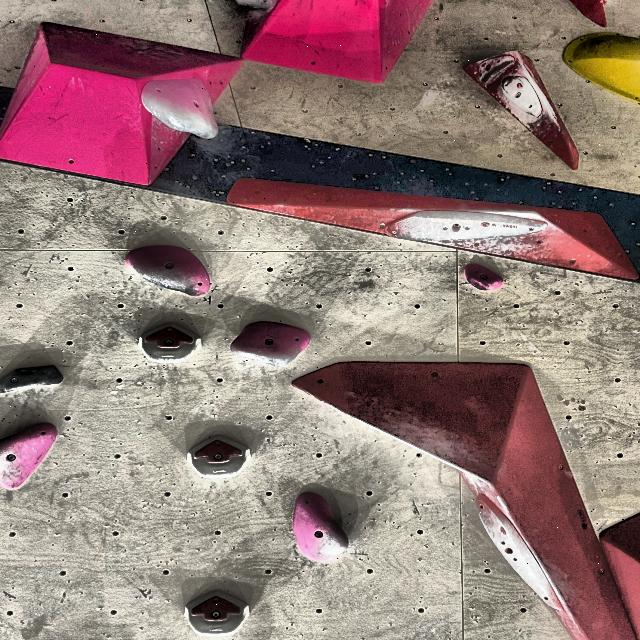Downclimb: (185, 592, 249, 636), (187, 436, 250, 480), (138, 324, 201, 363)
Hold: (475, 495, 560, 608), (392, 211, 548, 244), (125, 245, 212, 297), (0, 423, 58, 489), (292, 493, 348, 561), (231, 321, 311, 367), (0, 364, 63, 395), (502, 74, 542, 114), (463, 262, 505, 291), (479, 56, 514, 83), (233, 0, 280, 14)
Macro: (563, 33, 640, 103)
Volume: (292, 362, 636, 640), (229, 179, 638, 279), (0, 23, 240, 185), (240, 0, 433, 84), (463, 51, 578, 168)
